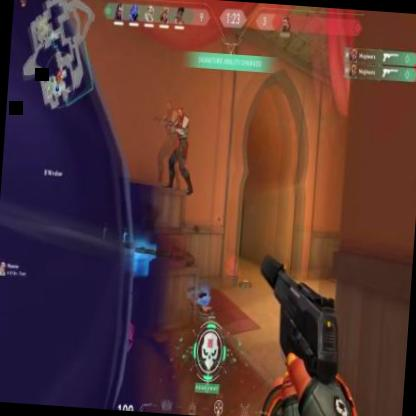enemy: (161, 101, 199, 194)
enemy_head: (174, 106, 184, 123)
